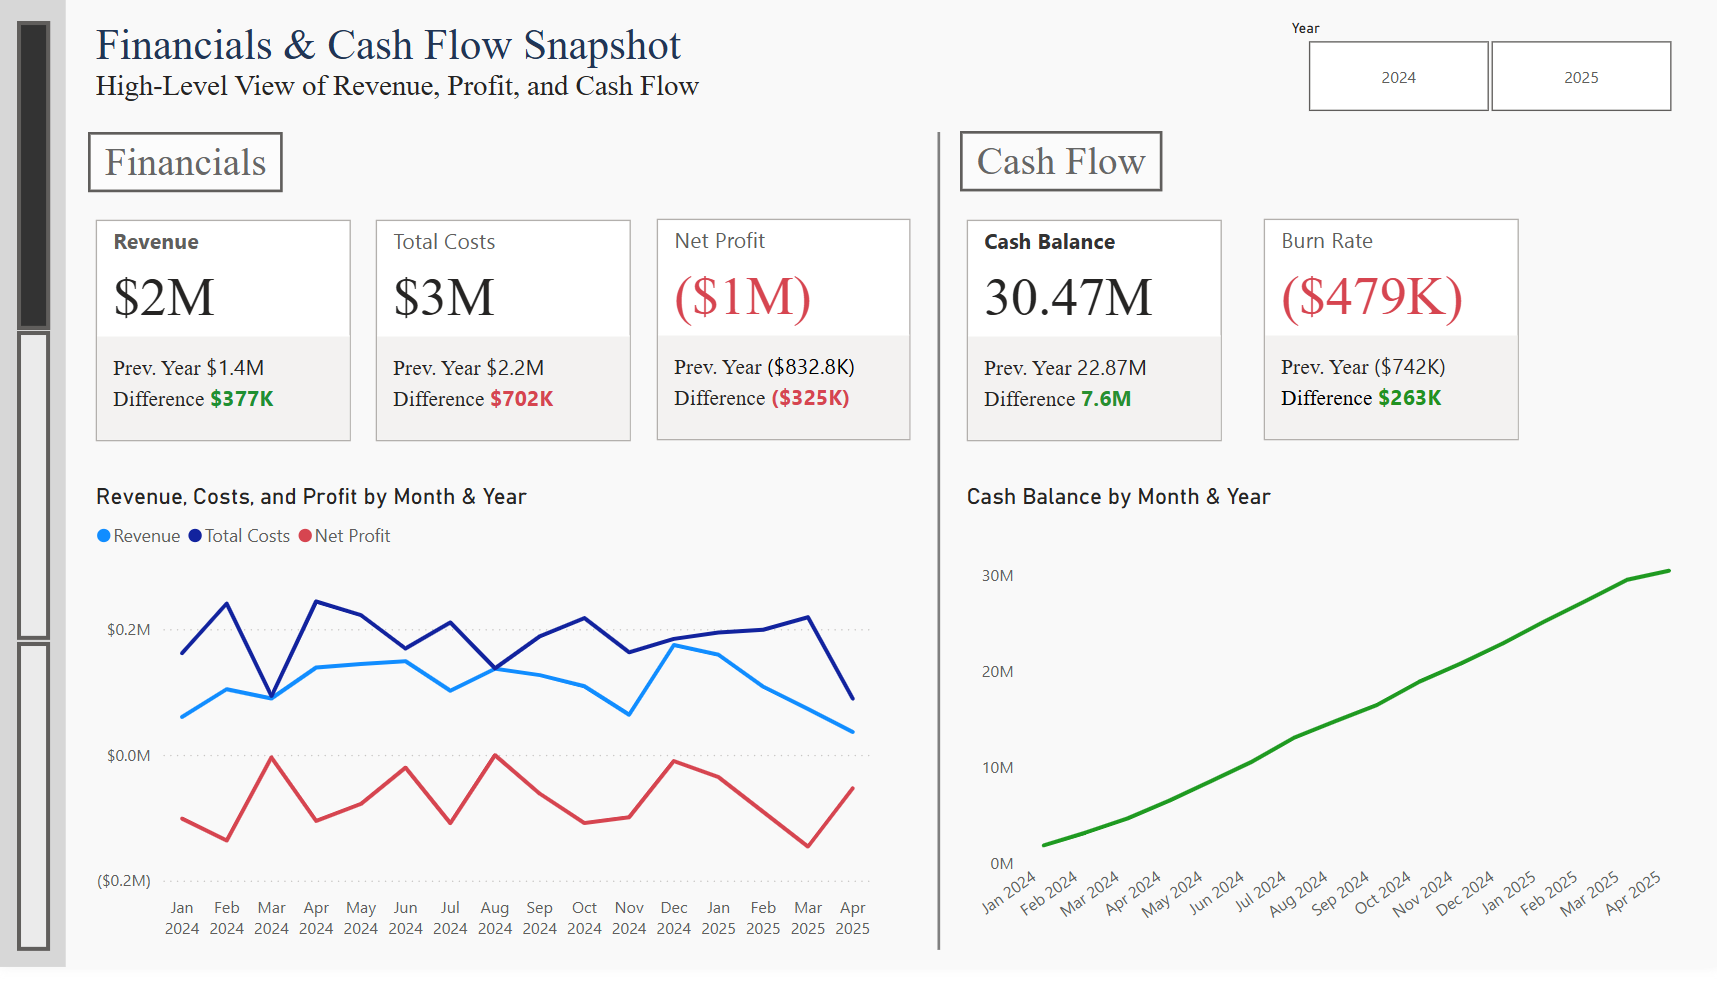

The page's visual inventory and layout, read from the dashboard file:
{"tool":"powerbi","page":{"name":"Financial Overview","canvas":[1280,720],"ordinal":0},"visuals":[{"type":"shape","box":[0,0,49,720],"z":0,"group":"g3"},{"type":"actionButton","box":[714.5,97.5,151.1,45.1],"z":0,"group":"g2"},{"type":"actionButton","box":[65.8,98.4,145.5,45],"z":0,"group":"g1"},{"type":"cardVisual","fields":{"Data":["Measure Table.Revenue"]},"box":[66.1,158.4,200.4,175.1],"z":0},{"type":"actionButton","box":[12.3,15.4,24.7,230],"z":1000,"group":"g3"},{"type":"cardVisual","fields":{"Data":["Measure Table.Net Profit"]},"box":[483.7,158.1,199.5,175.6],"z":1000},{"type":"slicer","fields":{"Values":["Date - Dimension.Year"]},"box":[948.3,9.7,320,79.8],"z":2000},{"type":"actionButton","box":[12.3,246.5,24.7,230.1],"z":2000,"group":"g3"},{"type":"lineChart","title":"Revenue, Costs, and Profit by Month & Year","fields":{"Y":["Measure Table.Revenue","Measure Table.Total Costs","Measure Table.Net Profit"],"Category":["Date - Dimension.Month & Year"]},"box":[66.2,359.5,589.4,347.6],"z":3000},{"type":"actionButton","box":[12.3,477.7,24.7,230.1],"z":3000,"group":"g3"},{"type":"cardVisual","fields":{"Data":["Measure Table.Total Costs"]},"box":[274.9,158.4,200.4,175.1],"z":4000},{"type":"textbox","box":[66.1,9.4,472.7,79.8],"z":5000},{"type":"cardVisual","fields":{"Data":["Measure Table.Burn Rate"]},"box":[936.1,158.2,200.5,175.6],"z":6000},{"type":"cardVisual","fields":{"Data":["Measure Table.Current_Balance"]},"box":[714.9,158.5,200.4,175.1],"z":7000},{"type":"lineChart","title":"Cash Balance by Month & Year","fields":{"Category":["Date - Dimension.Month & Year"],"Y":["Measure Table.Current_Balance"]},"box":[714.9,359.9,545.7,347.2],"z":8000},{"type":"shape","box":[683.2,98.4,31.3,608.7],"z":9000},{"type":"group","id":"g1","title":"Financials Title","box":[65.8,98.4,145.5,45],"z":10000},{"type":"group","id":"g2","title":"Cash Flow Title","box":[714.5,97.5,150.8,45.1],"z":11000},{"type":"group","id":"g3","title":"Left_Bar","box":[0,0,49,720],"z":12000}]}

Visuals, with their boxes on the page's 1280x720 design canvas (x1, y1, x2, y2). These are canvas units, not pixel positions in the 1717x1002 screenshot, which may show the page scaled, cropped or inside an application window:
shape: 0,0,49,720
actionButton: 714,98,866,143
actionButton: 66,98,211,143
cardVisual - Measure Table.Revenue: 66,158,266,334
actionButton: 12,15,37,245
cardVisual - Measure Table.Net Profit: 484,158,683,334
slicer - Date - Dimension.Year: 948,10,1268,90
actionButton: 12,246,37,477
"Revenue, Costs, and Profit by Month & Year" lineChart: 66,360,656,707
actionButton: 12,478,37,708
cardVisual - Measure Table.Total Costs: 275,158,475,334
textbox: 66,9,539,89
cardVisual - Measure Table.Burn Rate: 936,158,1137,334
cardVisual - Measure Table.Current_Balance: 715,158,915,334
"Cash Balance by Month & Year" lineChart: 715,360,1261,707
shape: 683,98,714,707
"Financials Title" group: 66,98,211,143
"Cash Flow Title" group: 714,98,865,143
"Left_Bar" group: 0,0,49,720
